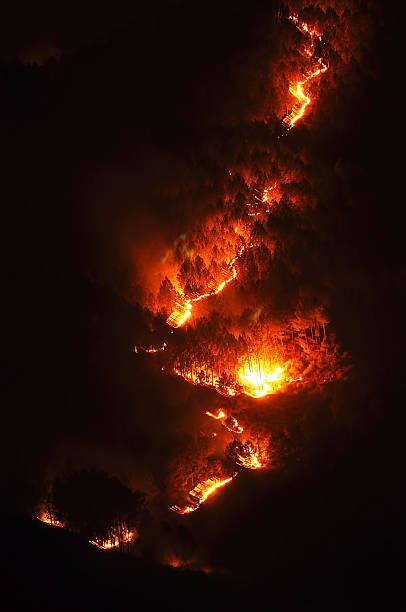Fire: (164, 259, 222, 326), (226, 406, 267, 471), (230, 363, 314, 391), (296, 68, 309, 123), (192, 476, 211, 502)
